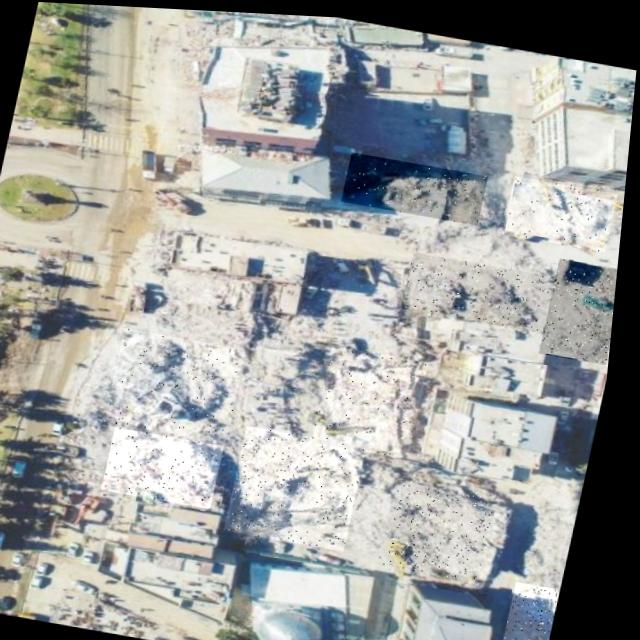Rubble: (232, 422, 375, 547), (109, 326, 253, 440), (317, 341, 435, 454), (404, 247, 563, 327), (387, 476, 504, 576), (342, 147, 491, 220), (108, 424, 232, 506), (503, 168, 621, 244), (543, 251, 623, 358), (508, 575, 570, 640)
